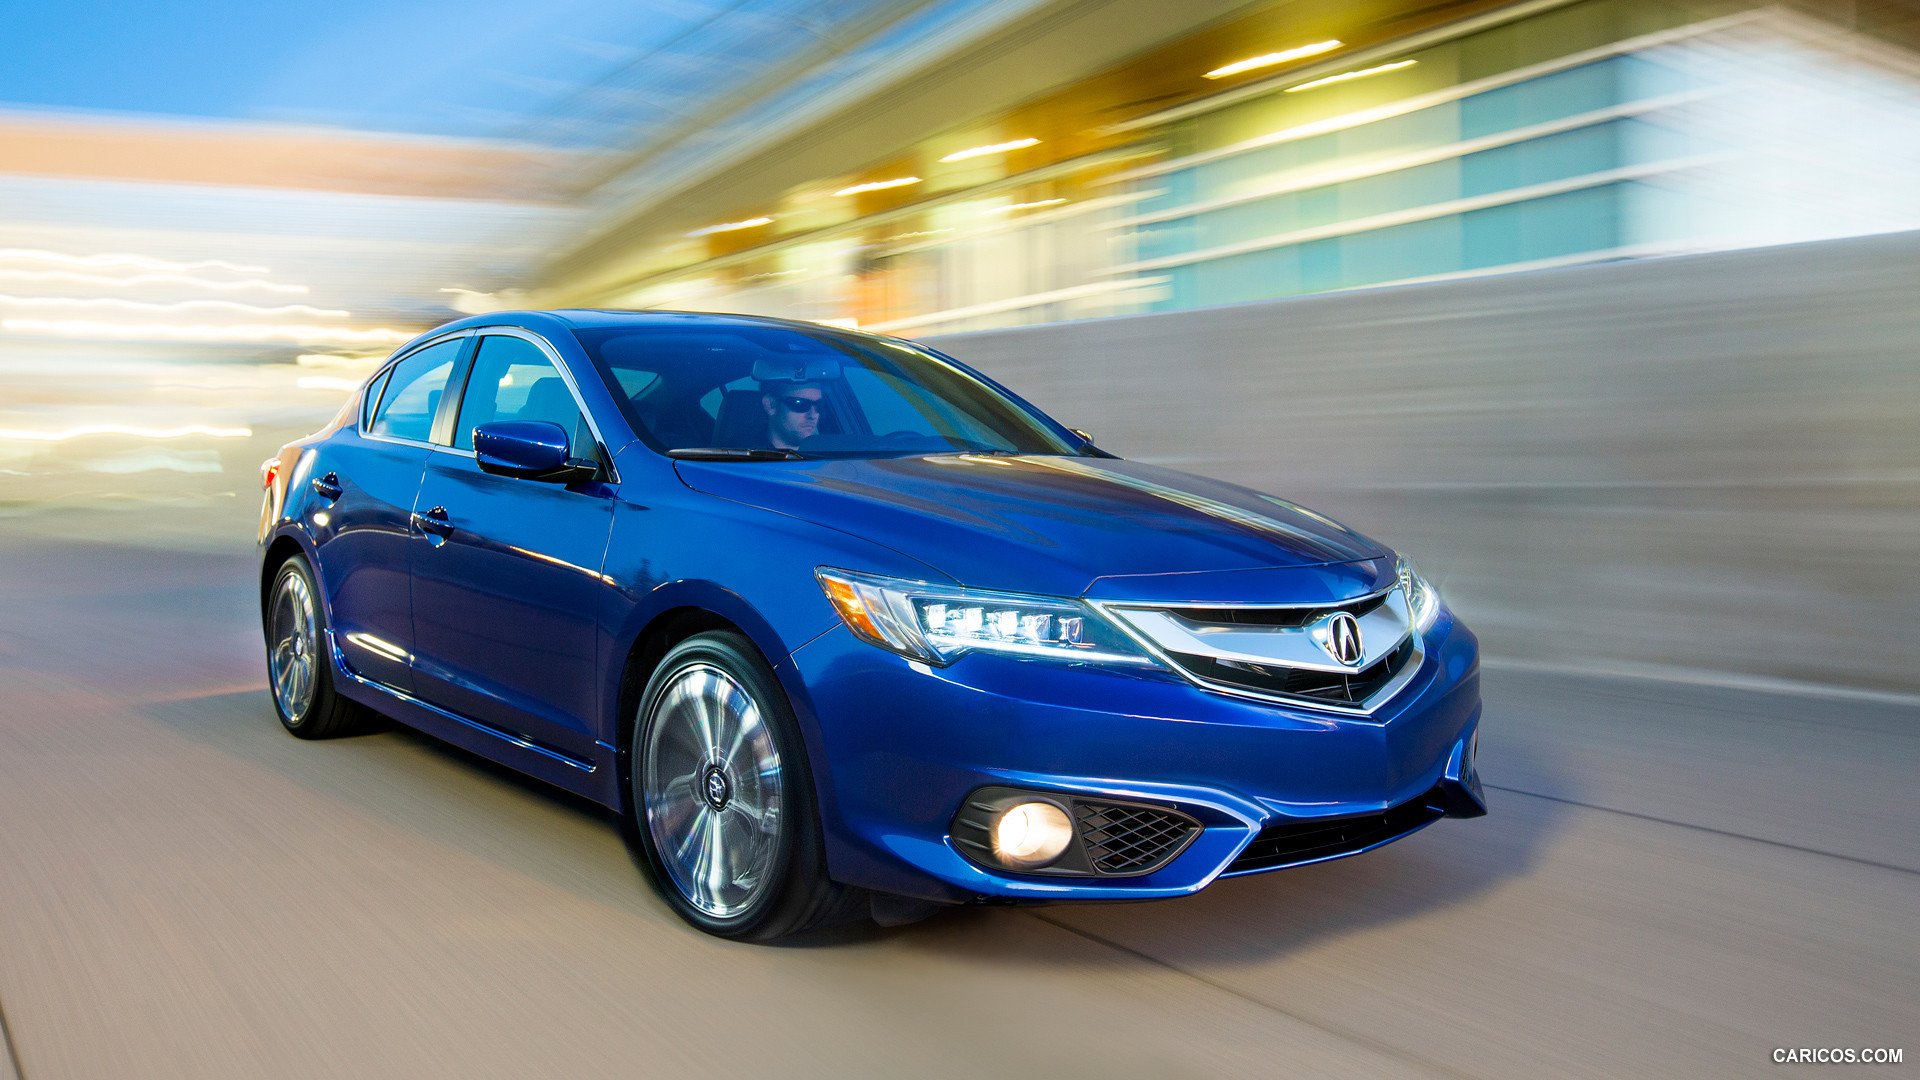Fog Lamp & Scope: (945, 789, 1204, 880)
Front: (680, 469, 1482, 902)
Front Bumper: (847, 675, 1487, 901)
Grill: (1151, 597, 1433, 711)
Headlight: (815, 564, 1160, 671)
